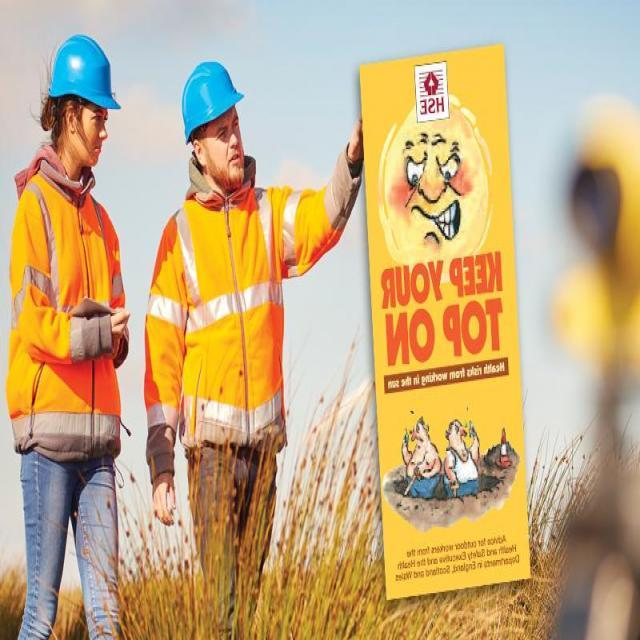reflective_jacket: (146, 175, 297, 449), (2, 171, 127, 434)
safety_helmet: (45, 28, 122, 113), (177, 55, 245, 142)
